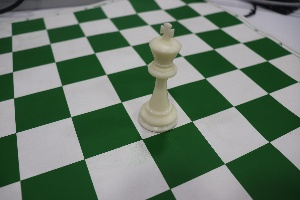white_king: (138, 8, 188, 143)
